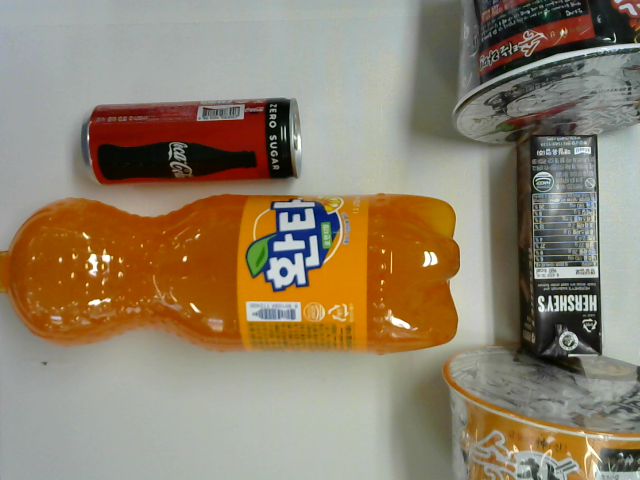Coca_Cola_Zero_Can_250ml: (79, 97, 309, 191)
HeJangsock: (448, 2, 640, 149)
Hejangchan: (442, 335, 639, 480)
Hush_Choco_Drink: (514, 132, 603, 361)
Hwanta_Orange_1.5L: (1, 189, 463, 358)
